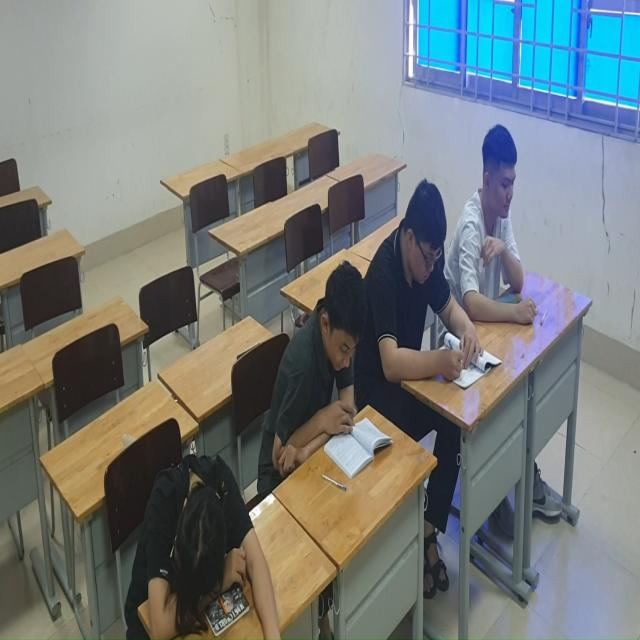read: (262, 260, 394, 490), (375, 180, 487, 427), (450, 114, 543, 334)
sleep: (121, 452, 296, 640)
